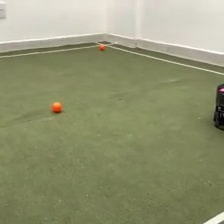ball: (51, 100, 62, 114), (98, 42, 106, 50)
robot: (212, 81, 224, 132)
